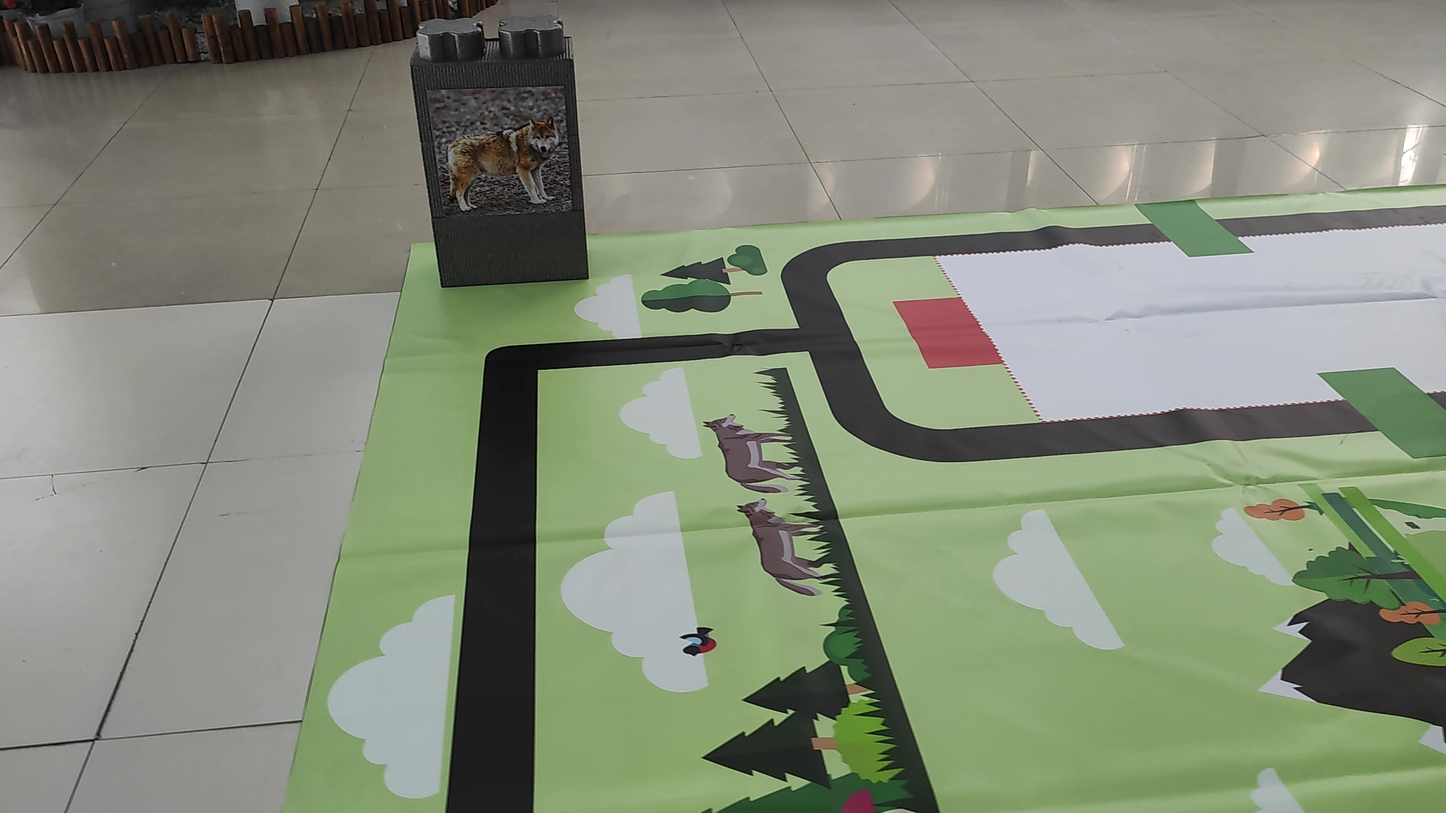wolf: (445, 114, 563, 215)
